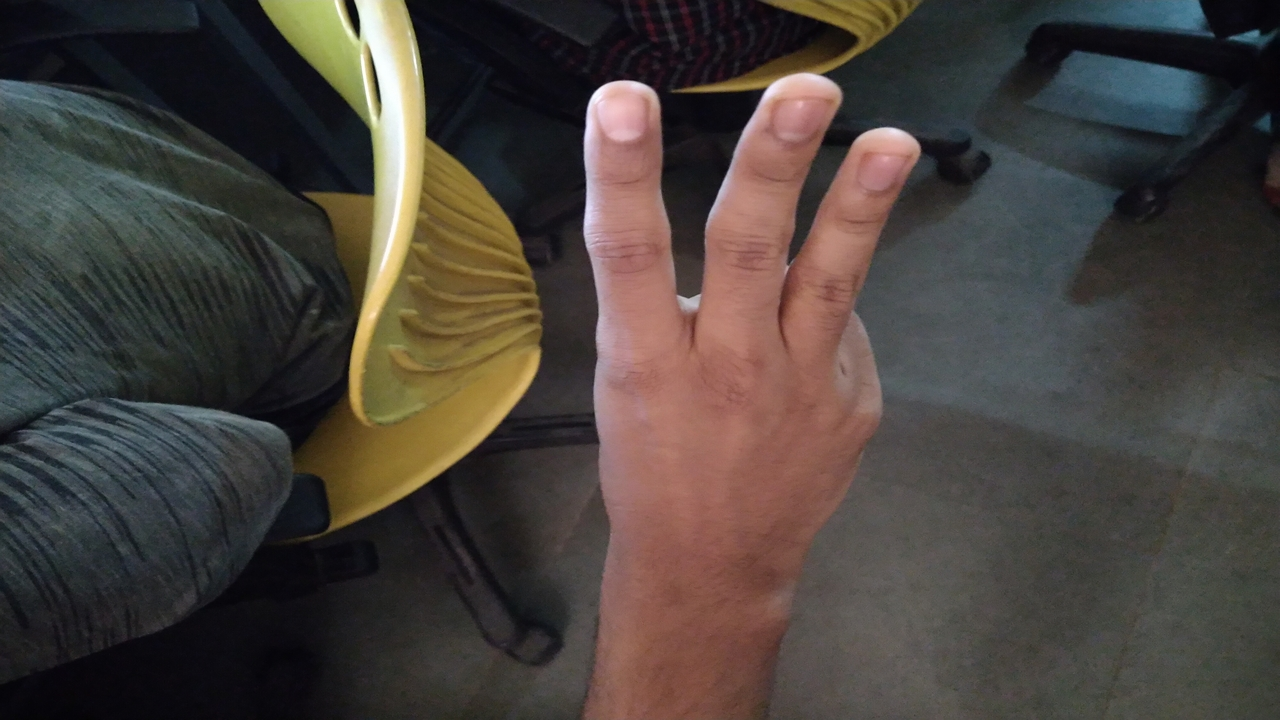fingertip: (752, 66, 850, 140), (842, 116, 928, 198), (584, 70, 666, 148)
